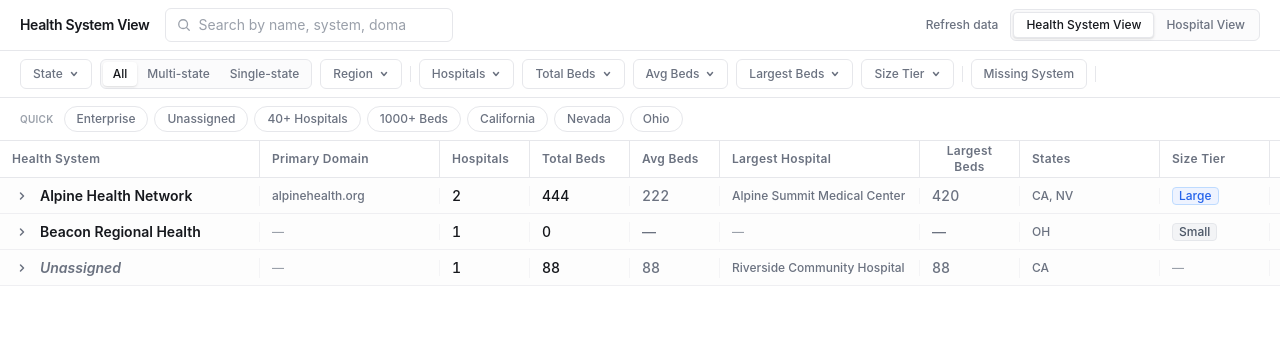
Test: Clear all filters button restores the table
Check: the table named "Health System View" is shown, box [0,141,1279,286]
Click the button "Hospital View" at [1206, 25], box [1154,13,1257,37]
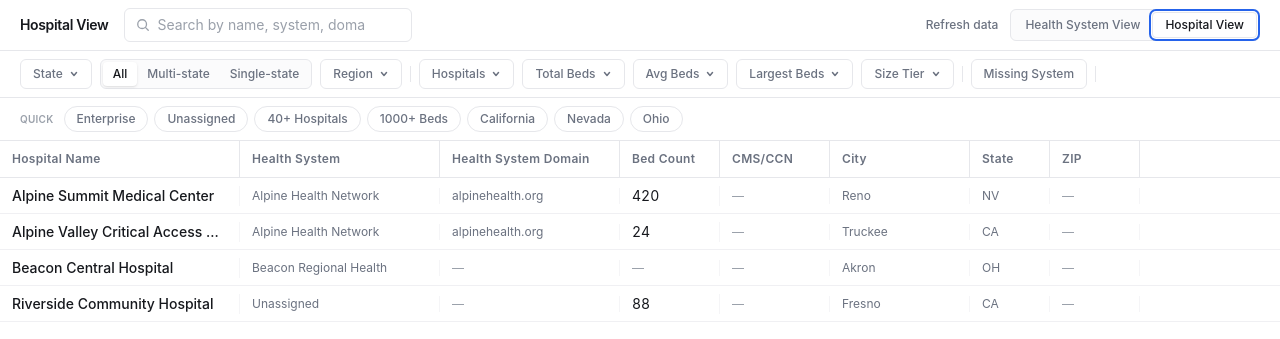
Check: the table named "Hospital View" is shown, box [0,141,1279,322]
Click the 1st button "State" at [56, 74], box [20,59,92,89]
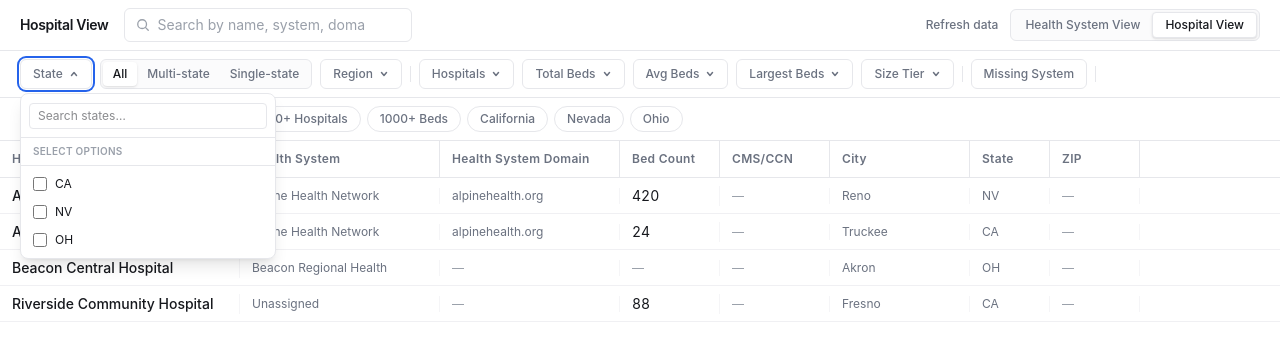
Click the text "OH" below "Select options" at [64, 240], box [55,232,73,248]
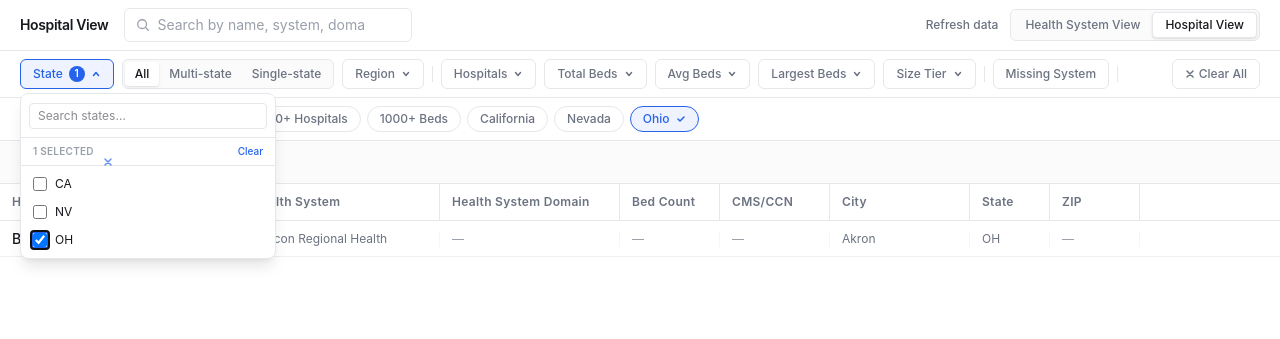
Click the button "Missing System" at [1051, 74], box [992,59,1109,89]
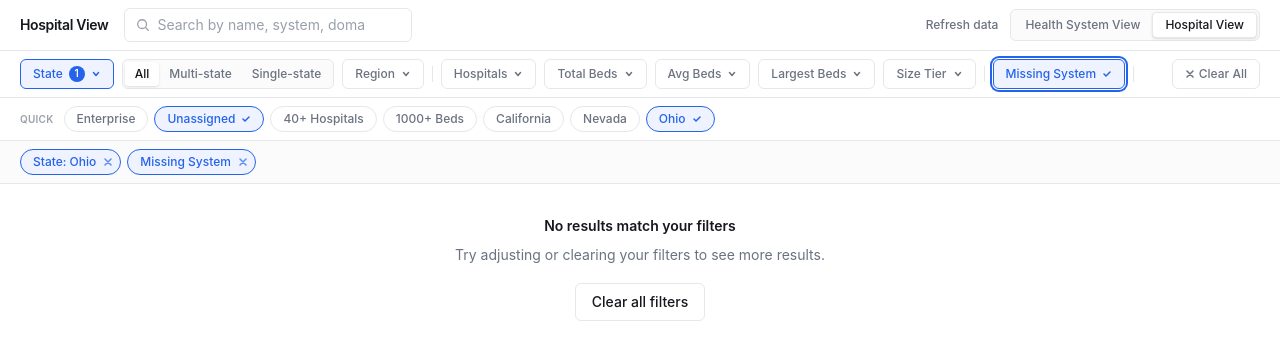
Check: the text "No results match your filters" is shown, box [544,217,736,234]
Click the button "Clear all filters" at [640, 302], box [575,283,705,321]
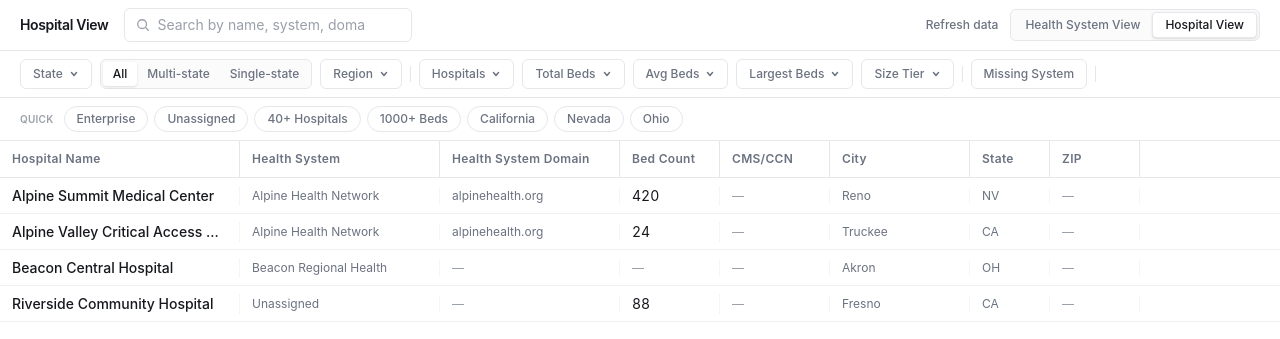
Check: the table named "Hospital View" is shown, box [0,141,1279,322]
